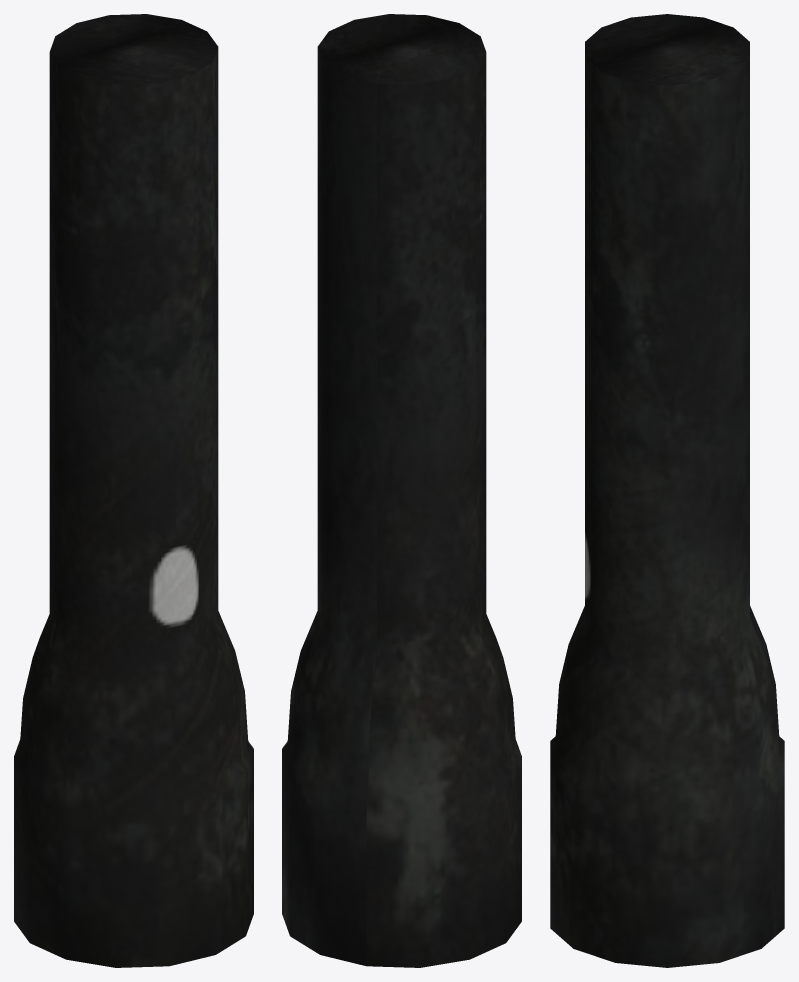
Rendered from item_flashlight.dae.
The picture shows the model from 3 angles, left to right: view 1: azimuth 30°, elevation 25°; view 2: azimuth 150°, elevation 25°; view 3: azimuth 270°, elevation 25°; orthographic projection.
Visible parts, largest first — view 1: pCylinder2; view 2: pCylinder2; view 3: pCylinder2.
Part boxes in pixels (x1,y1,x2,y2): pCylinder2: (14, 14, 253, 967); pCylinder2: (282, 14, 521, 967); pCylinder2: (550, 14, 784, 967).
Size of what is drawn, in the model's own units: 0.0601 by 0.2403 by 0.0586.
